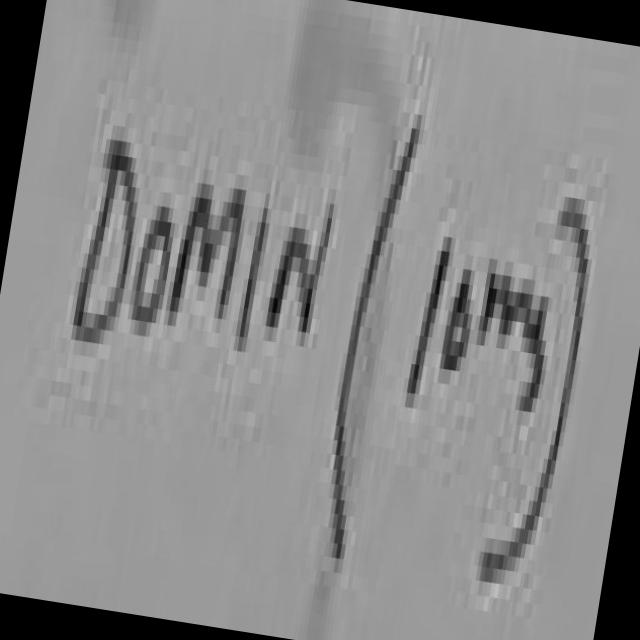0: (427, 250, 485, 416)
1: (387, 190, 465, 460)
D: (54, 93, 160, 392)
I: (222, 144, 290, 385)
M: (160, 143, 258, 376)
N: (258, 158, 346, 380)
O: (118, 170, 188, 368)
g: (512, 245, 568, 426)
m: (467, 234, 539, 387)
